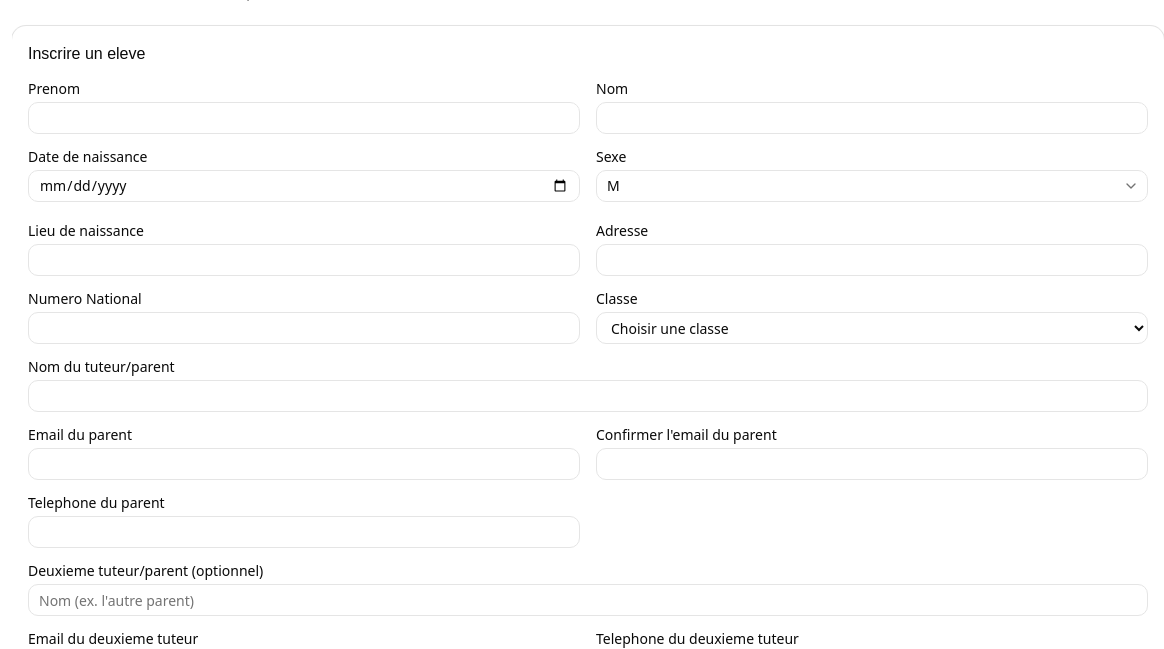
Test case: RegistrationPage › inscrit un eleve avec un FormData contenant les champs texte
This screenshot has width=1164, height=649.
Type "Jean" into the field labelled "Prenom".
click(304, 118); type("Jean")  # box [28, 102, 580, 134]
Type "Dupont" into the field labelled "Nom".
click(872, 118); type("Dupont")  # box [596, 102, 1148, 134]
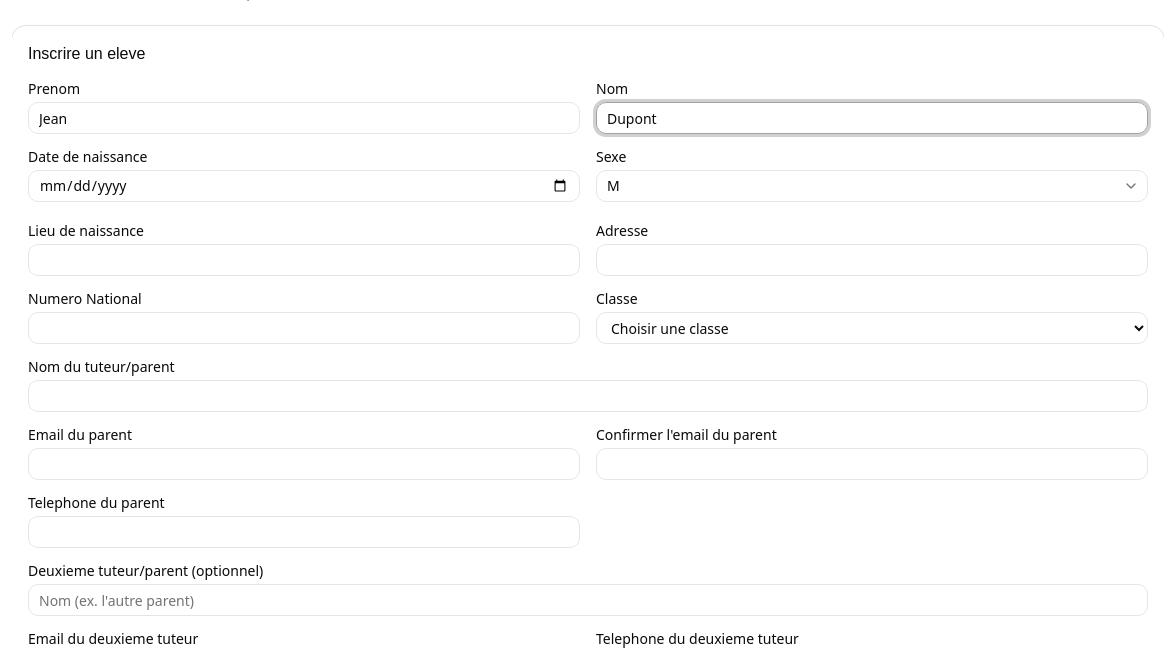
Type "2013-05-10" into the date field labelled "Date de naissance".
click(304, 186); type("2013-05-10")  # box [28, 170, 580, 202]
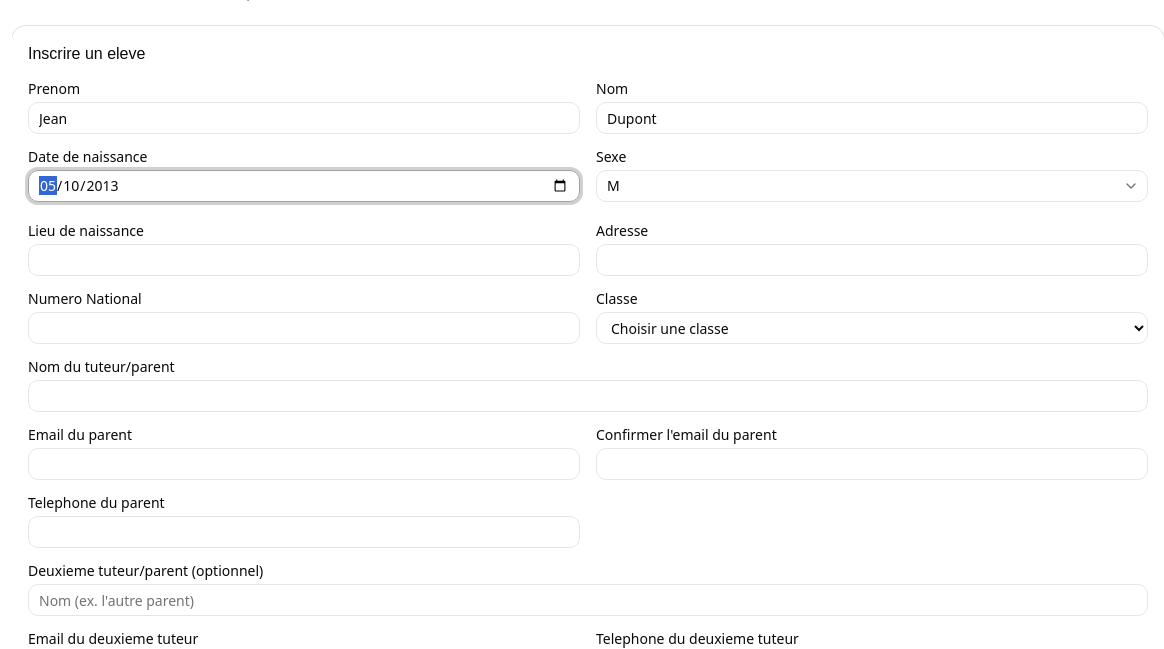
Select "6eme A (6eme - 2025-2026)" in the dropdown with id "classId" at (872,328), box [596, 312, 1148, 344]
Type "Marie Dupont" into the field labelled "Nom du tuteur/parent".
click(588, 396); type("Marie Dupont")  # box [28, 380, 1148, 412]
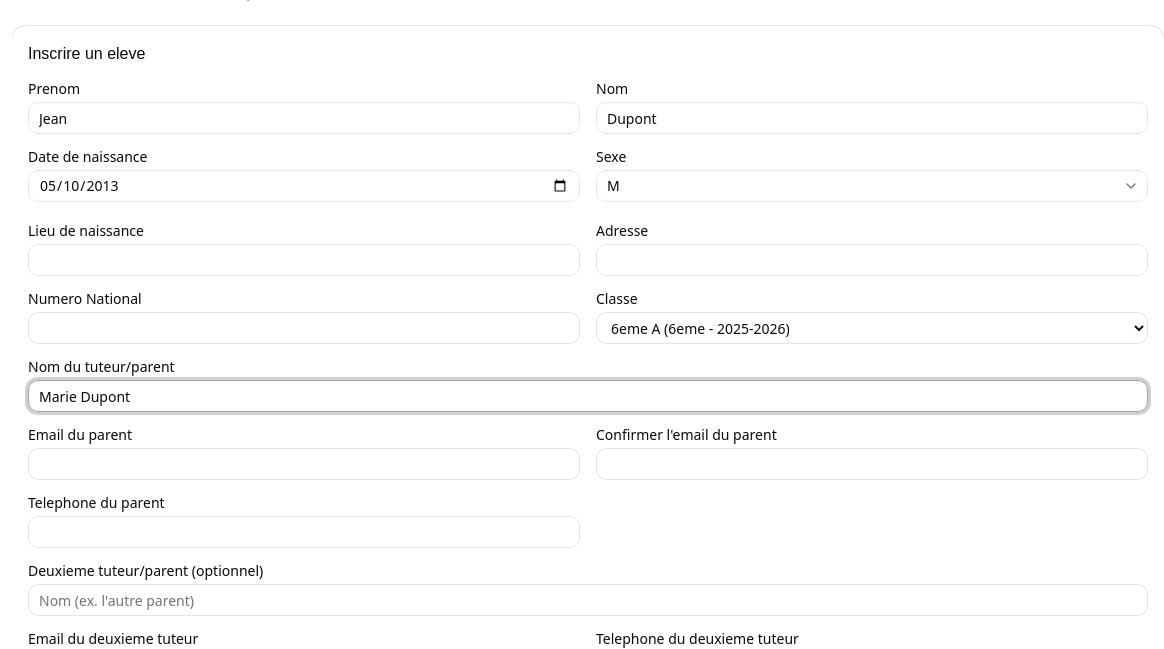
Type "marie@example.cm" into the field labelled "Email du parent".
click(304, 464); type("marie@example.cm")  # box [28, 448, 580, 480]
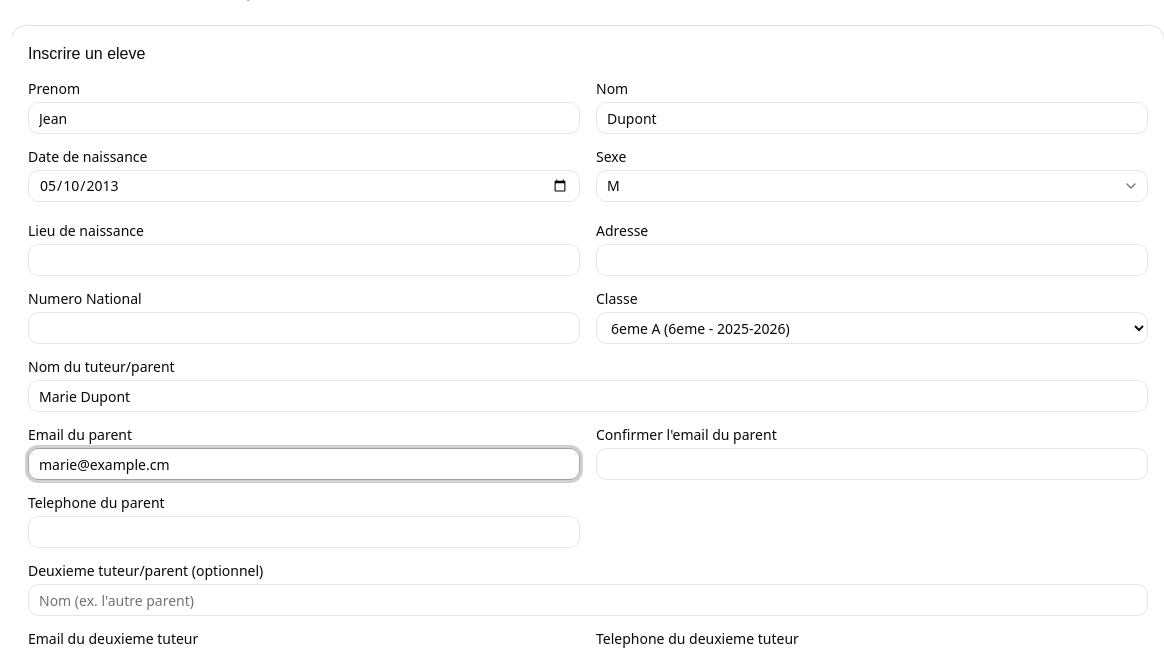
Type "marie@example.cm" into the field labelled "Confirmer l'email du parent".
click(872, 464); type("marie@example.cm")  # box [596, 448, 1148, 480]
(page scrolled)
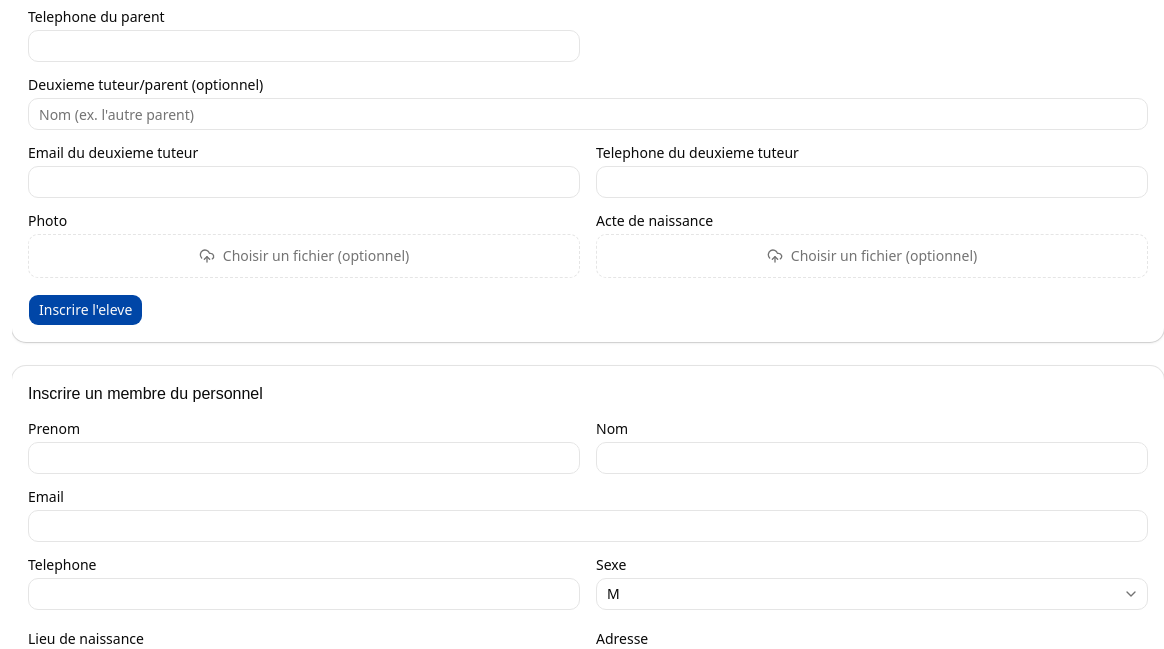
Click the button "Inscrire l'eleve".
click(86, 310)  # box [28, 294, 143, 326]
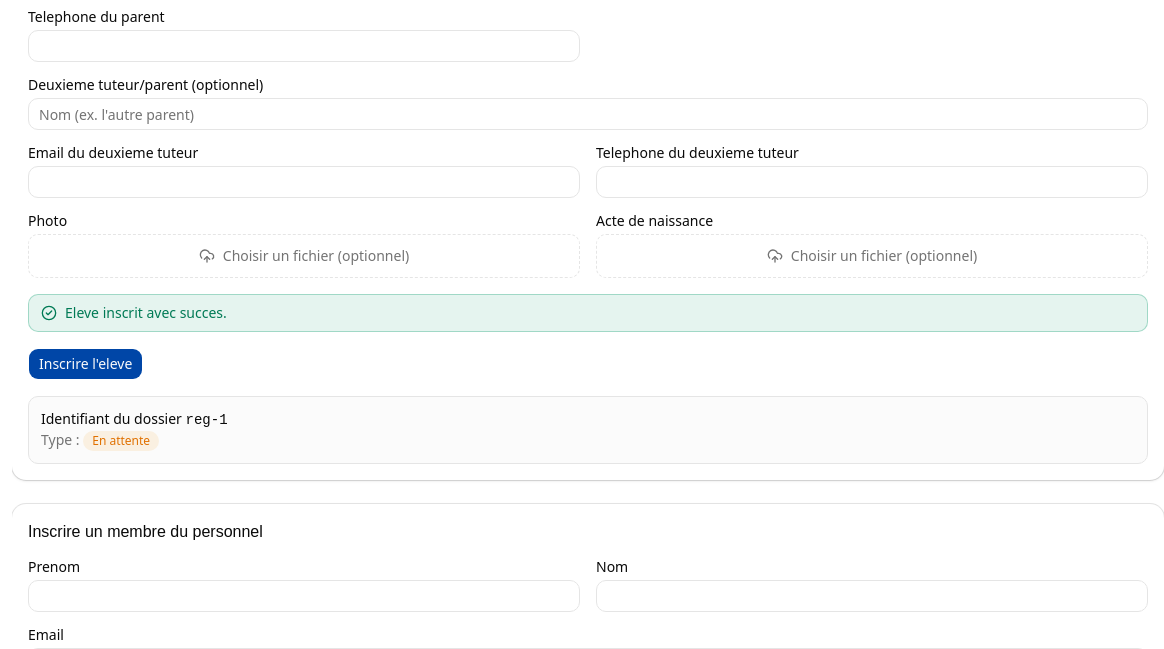
Check: the text "Eleve inscrit avec succes." is shown, box [65, 303, 227, 323]
Check: the text "reg-1" is shown, box [186, 412, 228, 428]
